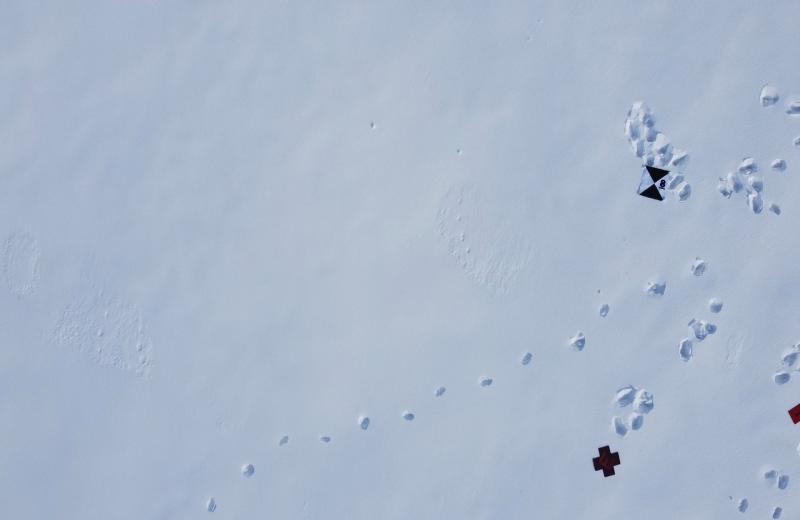Cross: (584, 432, 626, 490)
